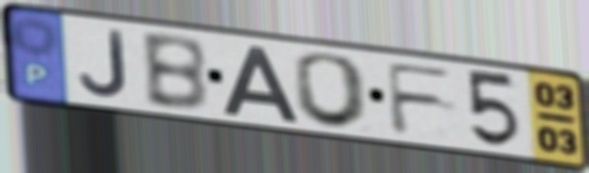5: (466, 67, 524, 150)
A: (219, 44, 302, 124)
B: (136, 32, 212, 115)
F: (382, 60, 459, 137)
J: (77, 28, 132, 102)
O: (292, 50, 374, 132)
